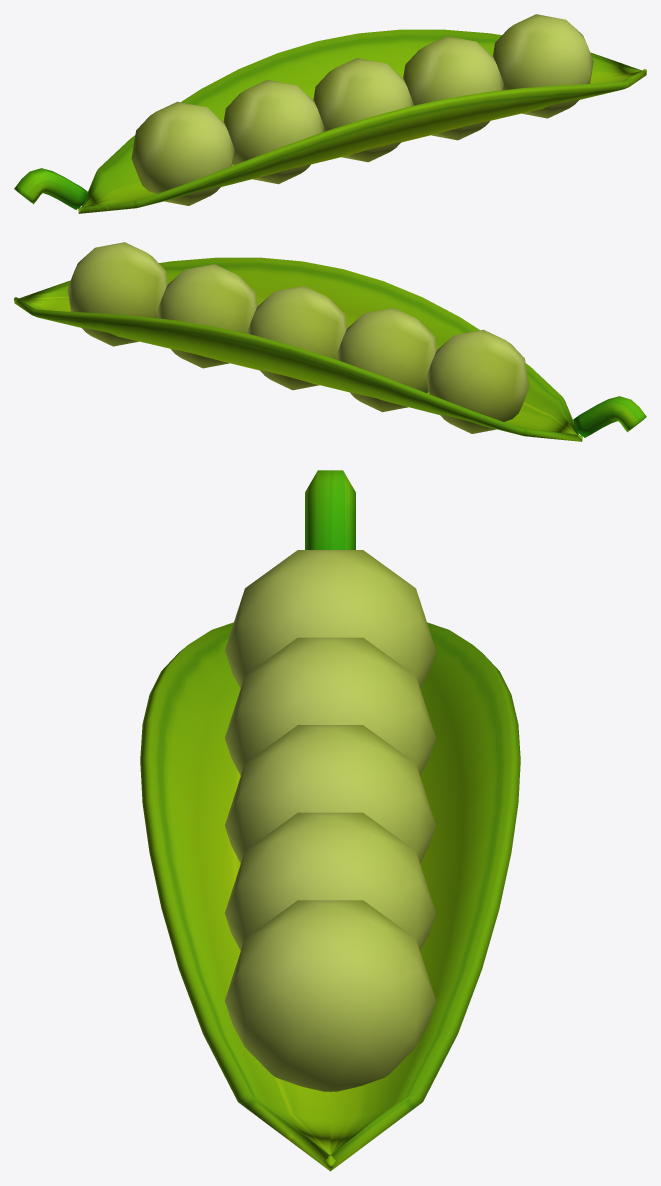
The model's file is NP_Pea_OpenPod.fbx.
3 views of the same model, one above another, from view 1: azimuth 30°, elevation 25°; view 2: azimuth 150°, elevation 25°; view 3: azimuth 270°, elevation 25° (orthographic). The views are drawn at different scales.
Parts seen in each view (by area): view 1: NP_Pea_OpenPod.001; view 2: NP_Pea_OpenPod.001; view 3: NP_Pea_OpenPod.001.
Boxes of the visible parts, <box> form: NP_Pea_OpenPod.001: <box>14,14,646,213</box>; NP_Pea_OpenPod.001: <box>14,242,646,441</box>; NP_Pea_OpenPod.001: <box>140,470,520,1171</box>.
Bounding box in the file's own units: 34.37 × 5 × 9.
